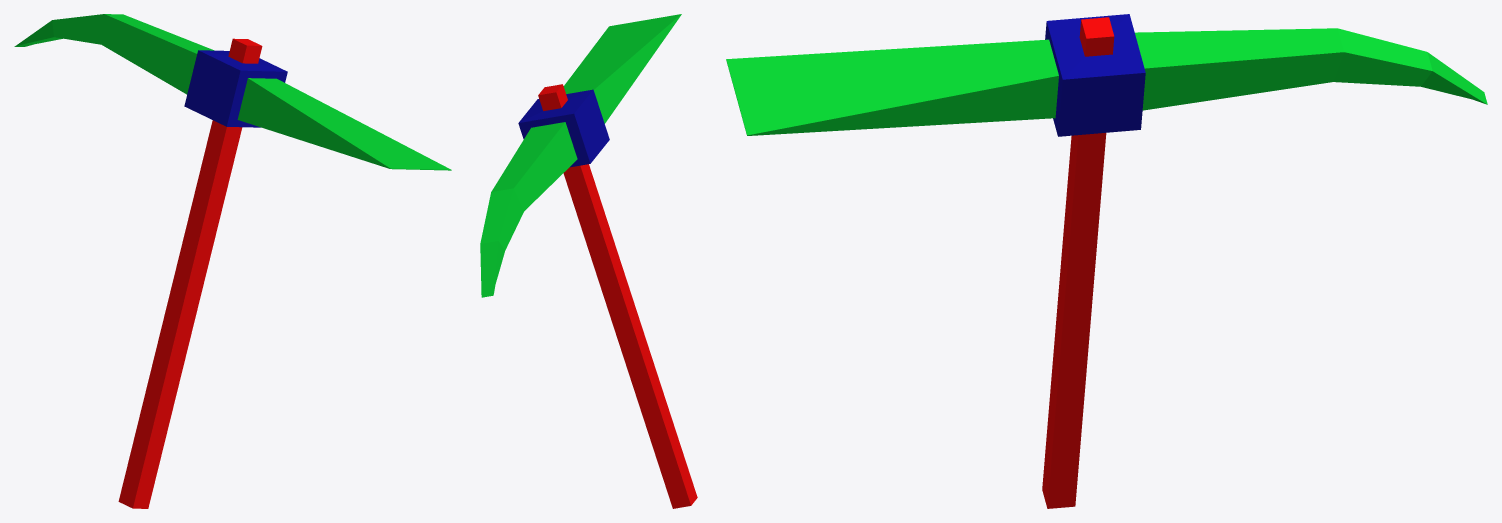
The model's file is pioche anim.FBX.
3 views of the same model, side by side, from view 1: azimuth 30°, elevation 25°; view 2: azimuth 150°, elevation 25°; view 3: azimuth 270°, elevation 25° (orthographic). The views are drawn at different scales.
Visible parts, largest first — view 1: Box002; view 2: Box002; view 3: Box002.
Part boxes in pixels (x1,y1,x2,y2): Box002: [14, 14, 451, 508]; Box002: [480, 14, 697, 508]; Box002: [726, 14, 1487, 508].
Bounding box in the file's own units: 147 × 285 × 351.
